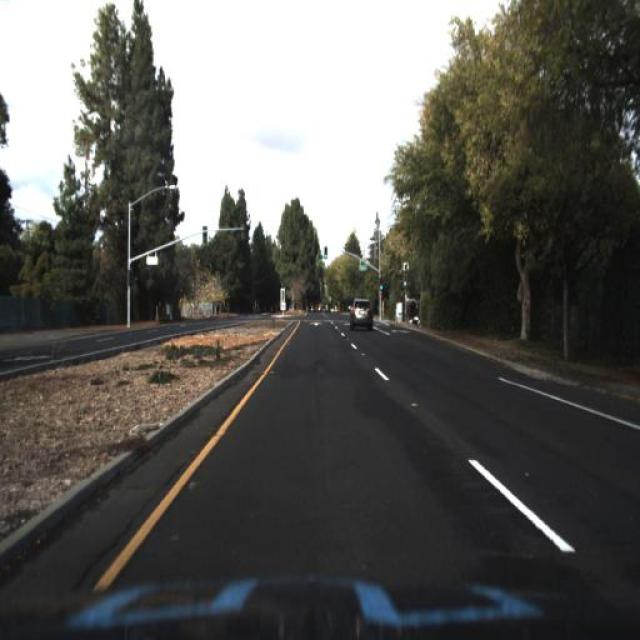car: (348, 296, 374, 332), (409, 308, 426, 334)
trafficLight-GreenLeft: (399, 269, 409, 291), (378, 273, 386, 296), (322, 241, 330, 261)
